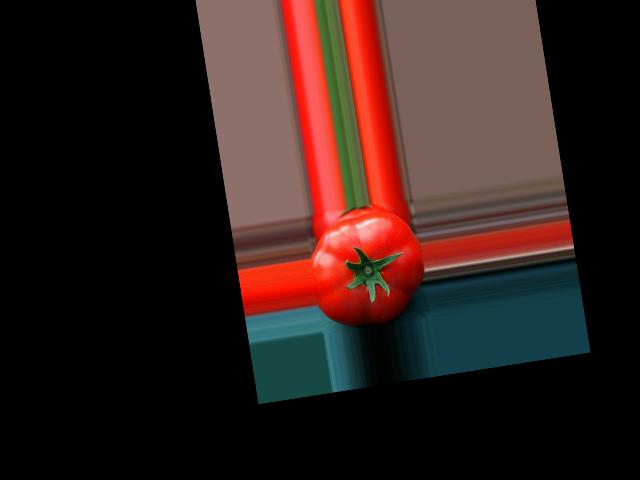tomato: (305, 205, 432, 332)
